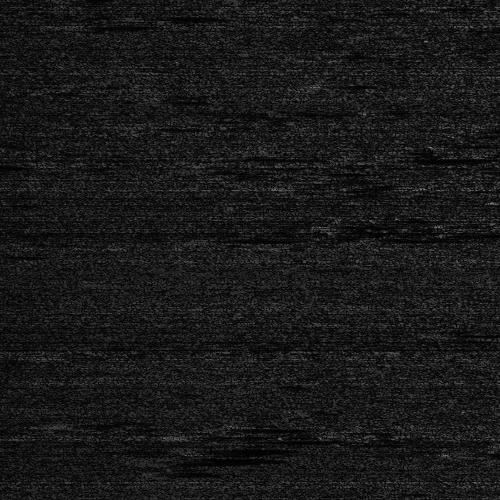rock: (126, 455, 189, 466), (441, 449, 500, 456), (175, 445, 216, 454), (202, 424, 255, 429), (175, 431, 216, 436), (485, 439, 500, 448)
shadow: (158, 455, 241, 466), (196, 445, 283, 454), (229, 424, 318, 429), (196, 431, 282, 436), (473, 449, 500, 456)
